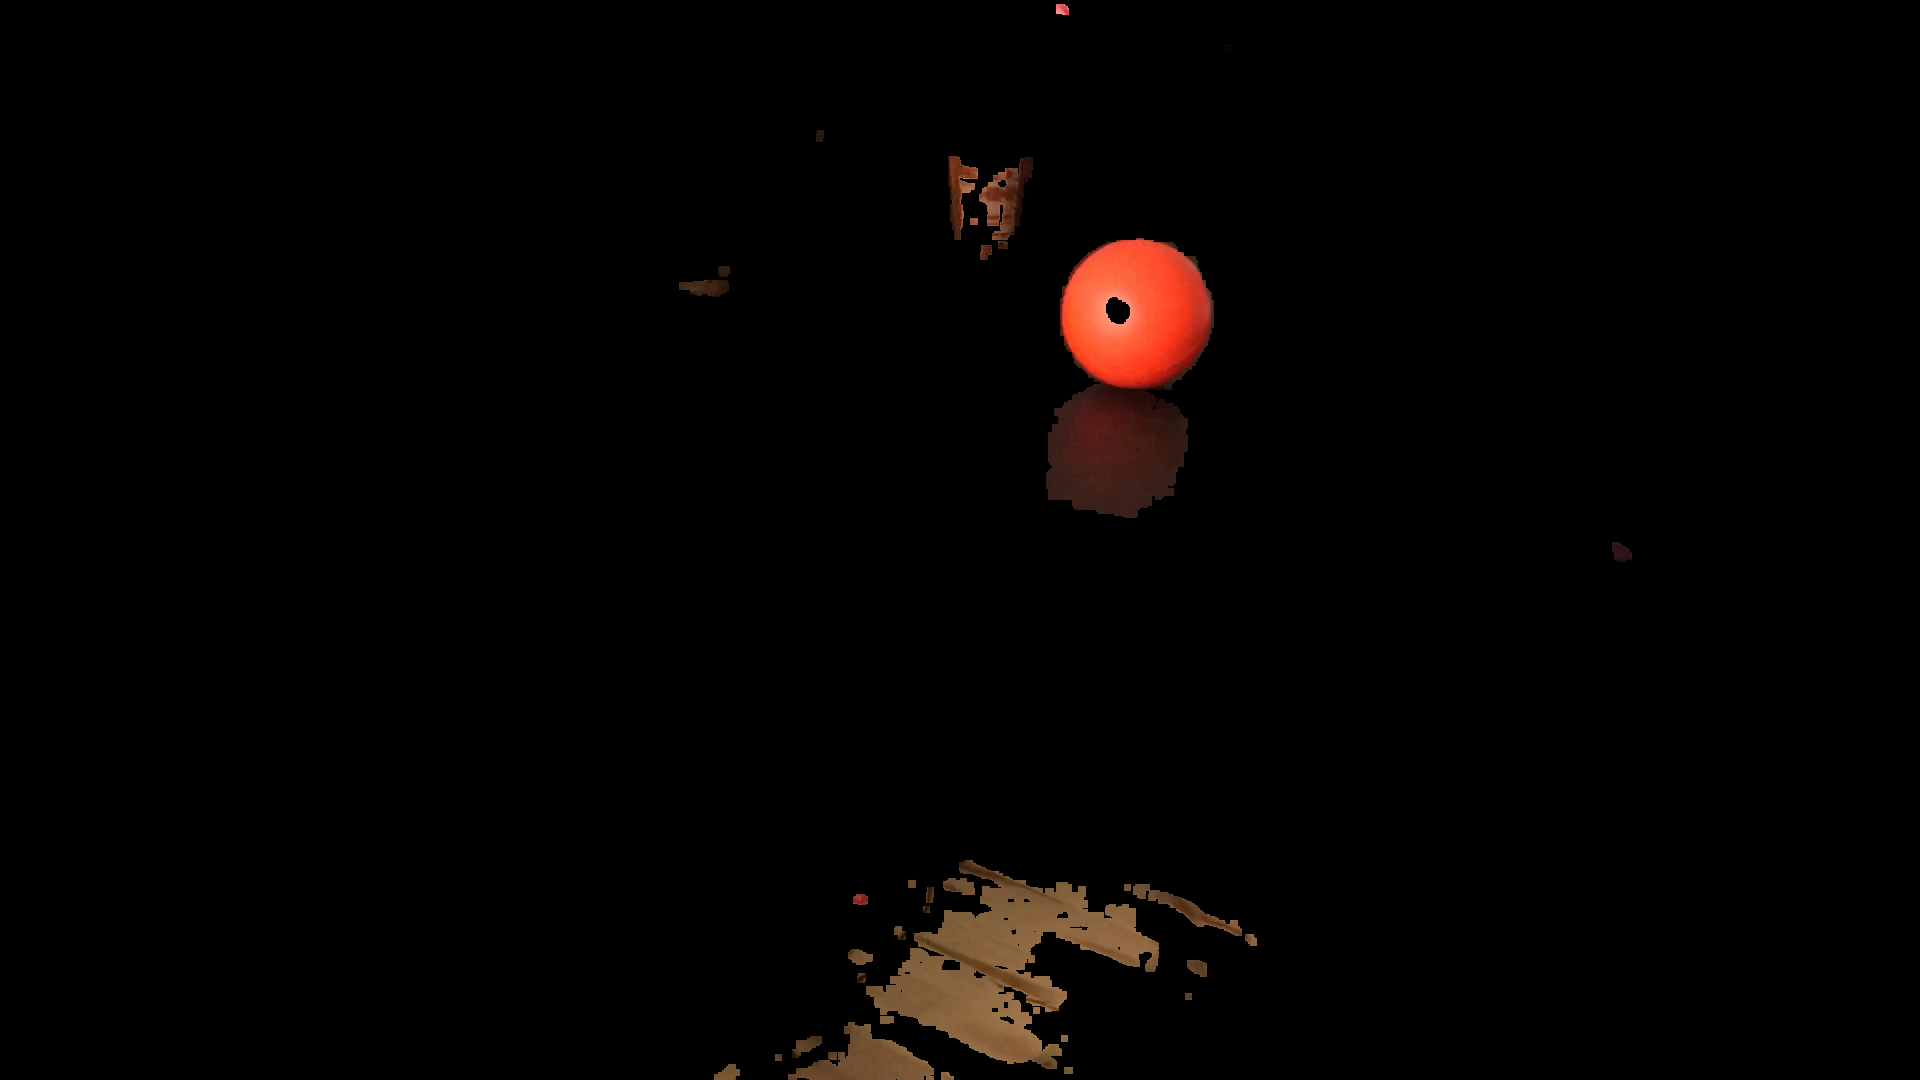Ball: (1052, 237, 1215, 396)
